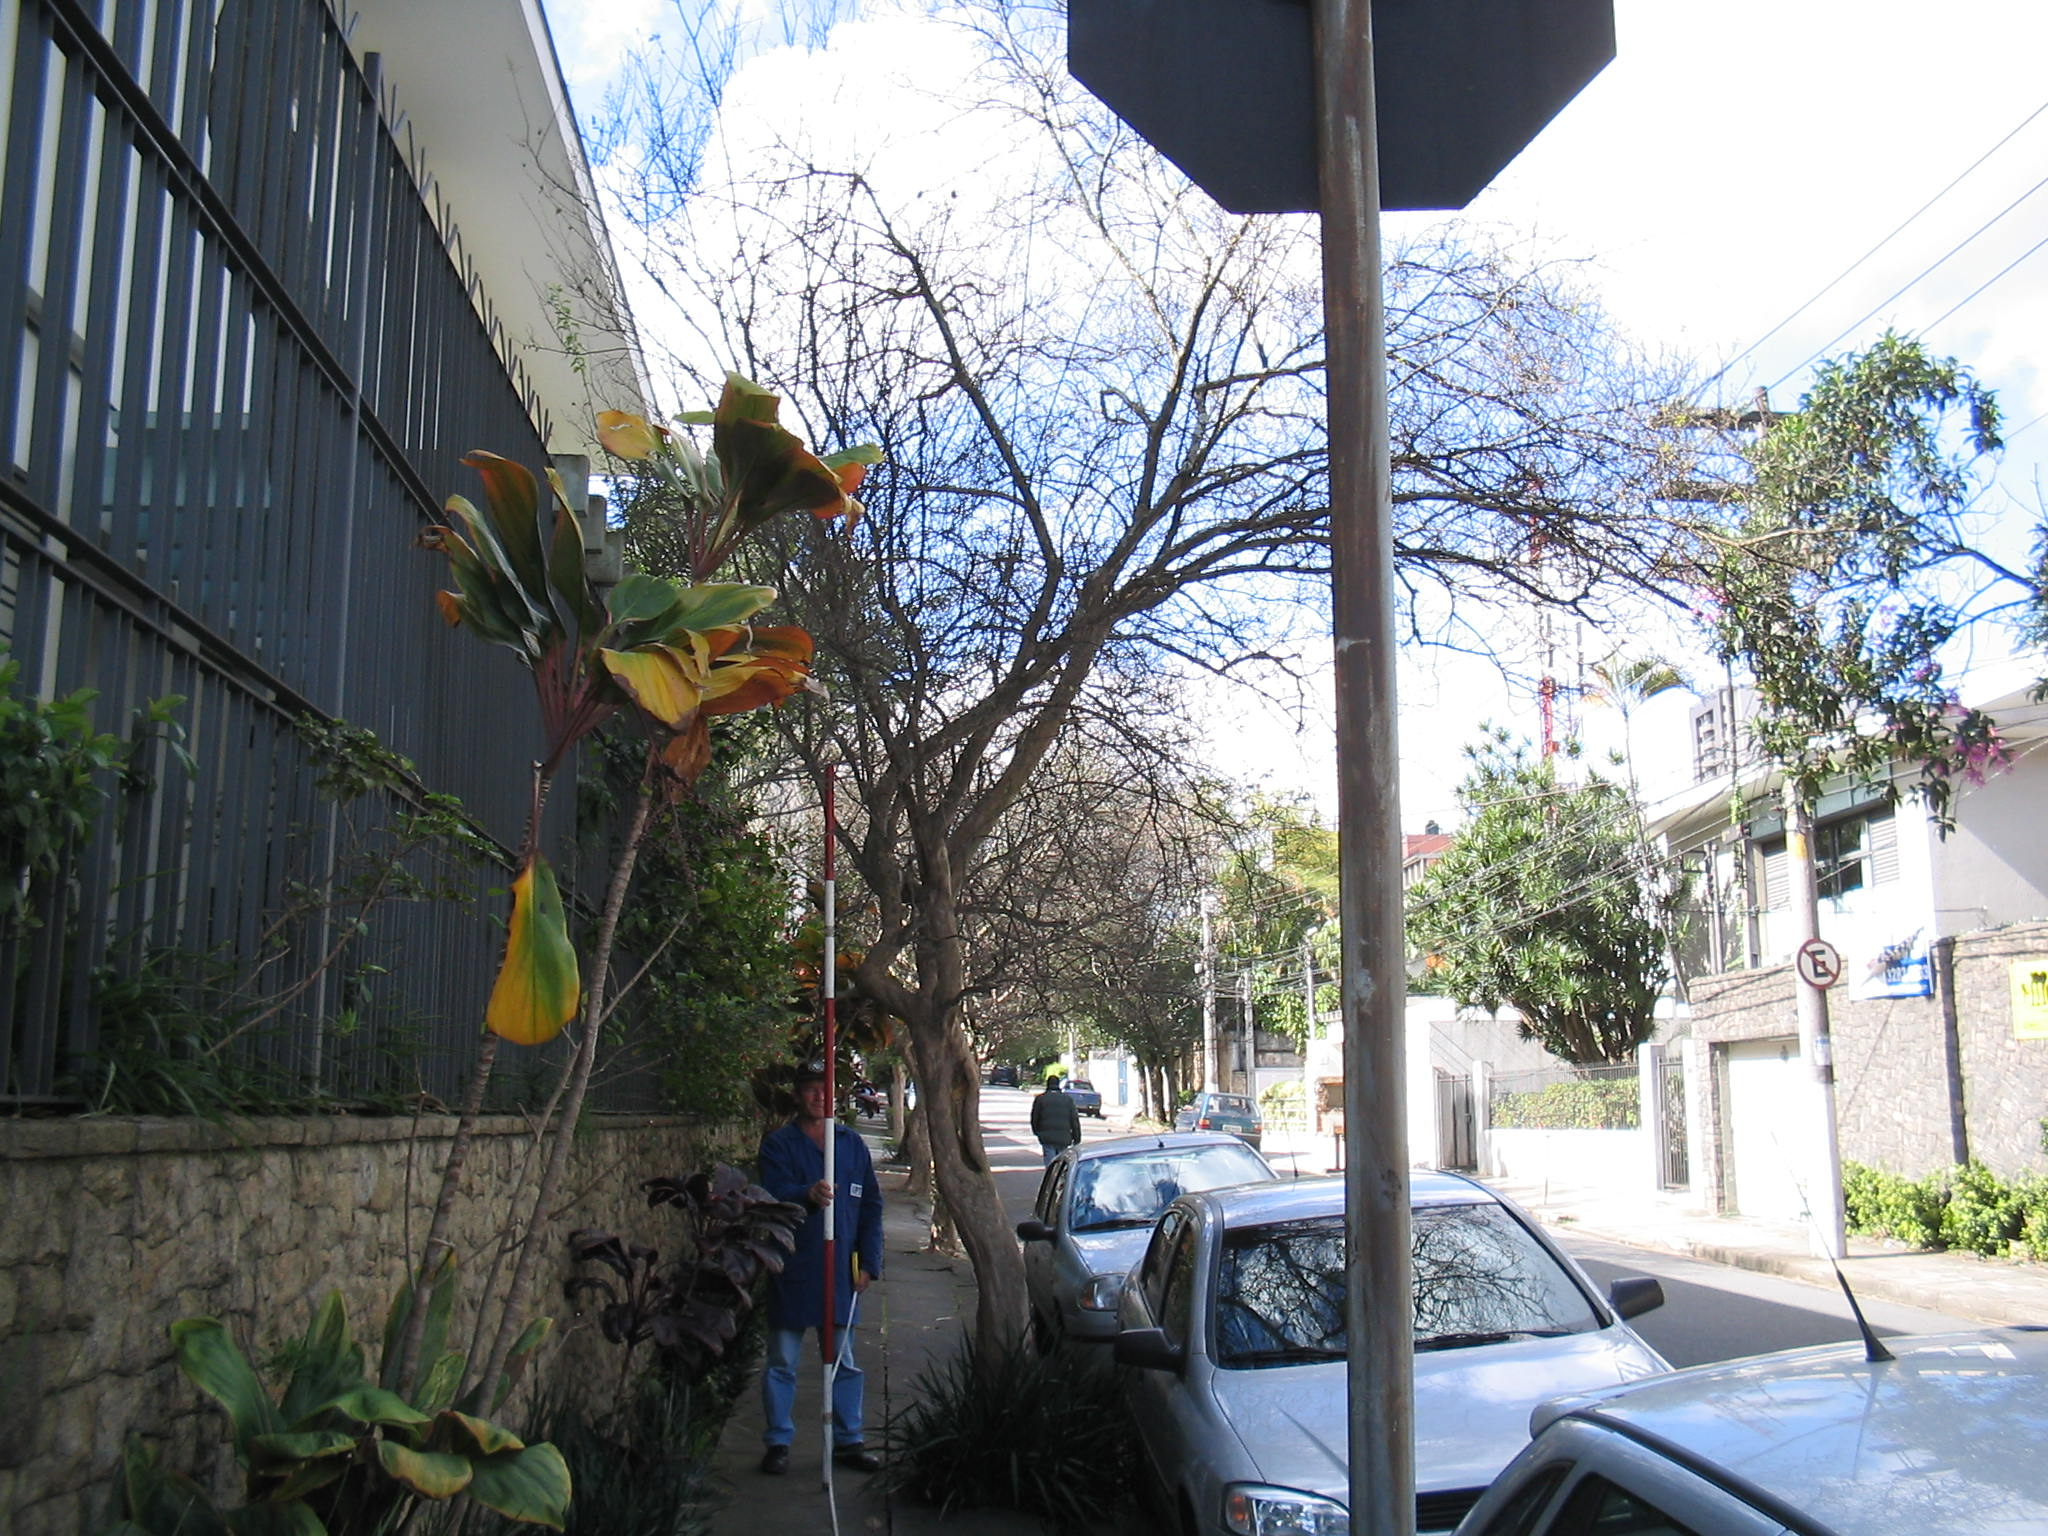stem: (864, 1020, 1068, 1491)
stick: (789, 765, 864, 1492)
tree: (522, 73, 1727, 1492)
